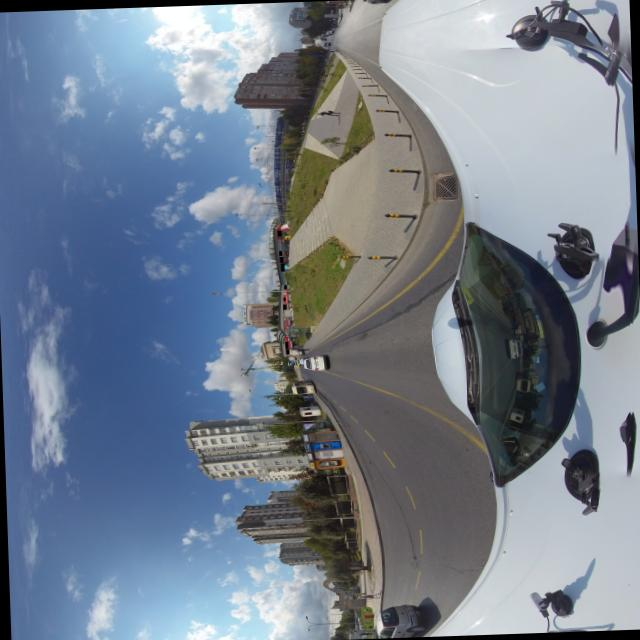SignStore: (280, 262, 284, 270), (279, 255, 283, 261), (277, 229, 281, 235), (285, 340, 288, 347), (285, 348, 289, 353), (284, 284, 287, 288), (279, 250, 282, 254), (283, 303, 285, 308), (283, 296, 285, 300)
